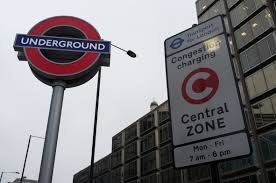London Underground: (14, 16, 109, 79)
